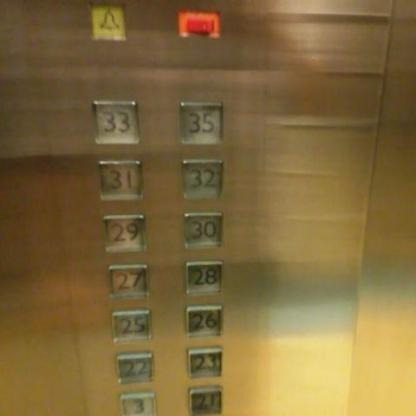21: (186, 383, 224, 415)
22: (114, 348, 154, 385)
23: (186, 344, 223, 379)
25: (108, 308, 152, 344)
26: (184, 303, 222, 337)
27: (107, 261, 148, 299)
28: (184, 258, 222, 296)
29: (100, 210, 146, 254)
3: (118, 390, 154, 415)
30: (183, 210, 222, 250)
31: (97, 159, 142, 201)
32: (181, 158, 222, 200)
33: (92, 98, 141, 145)
35: (176, 99, 224, 146)
alarm: (87, 1, 126, 42)
switch: (177, 7, 219, 41)
